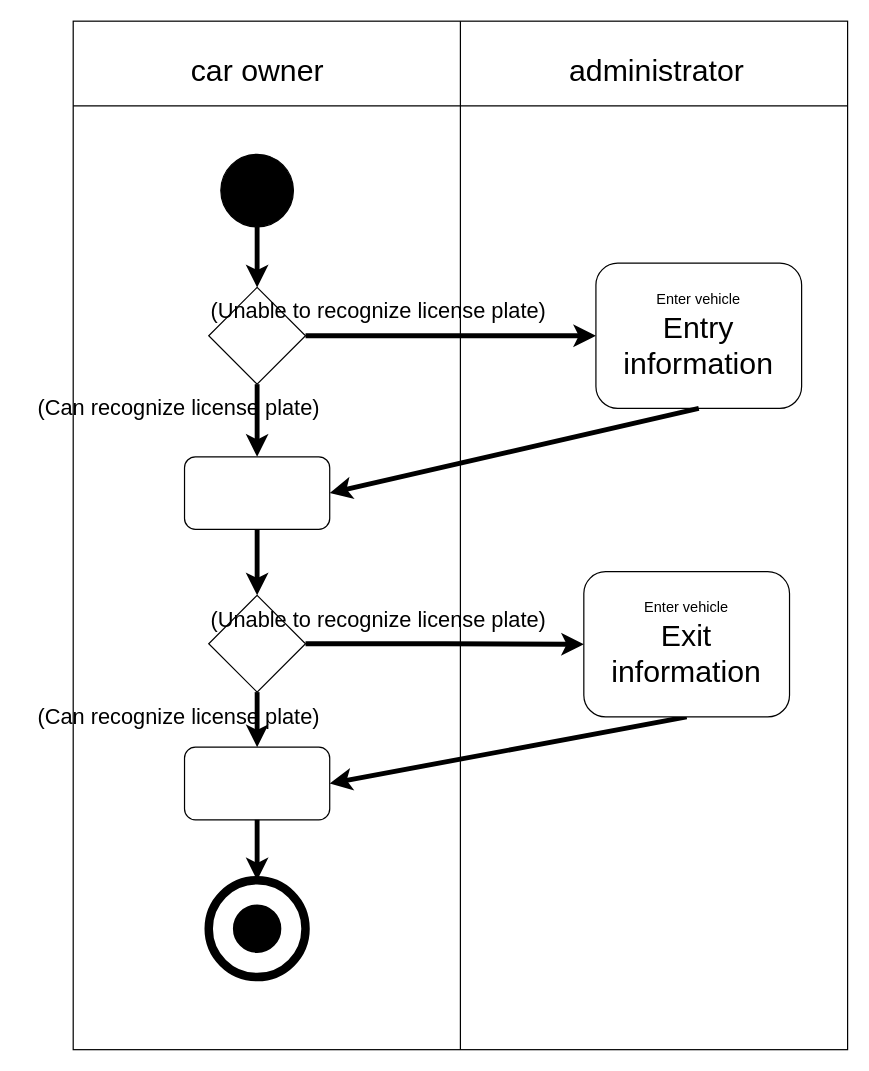
This 869x1071 diagram has some shape labels left out. Here are the shapes that lost their labels. From the top down, the centre of each, then its label:
(x=256, y=492): Admission
(x=256, y=783): Leave
